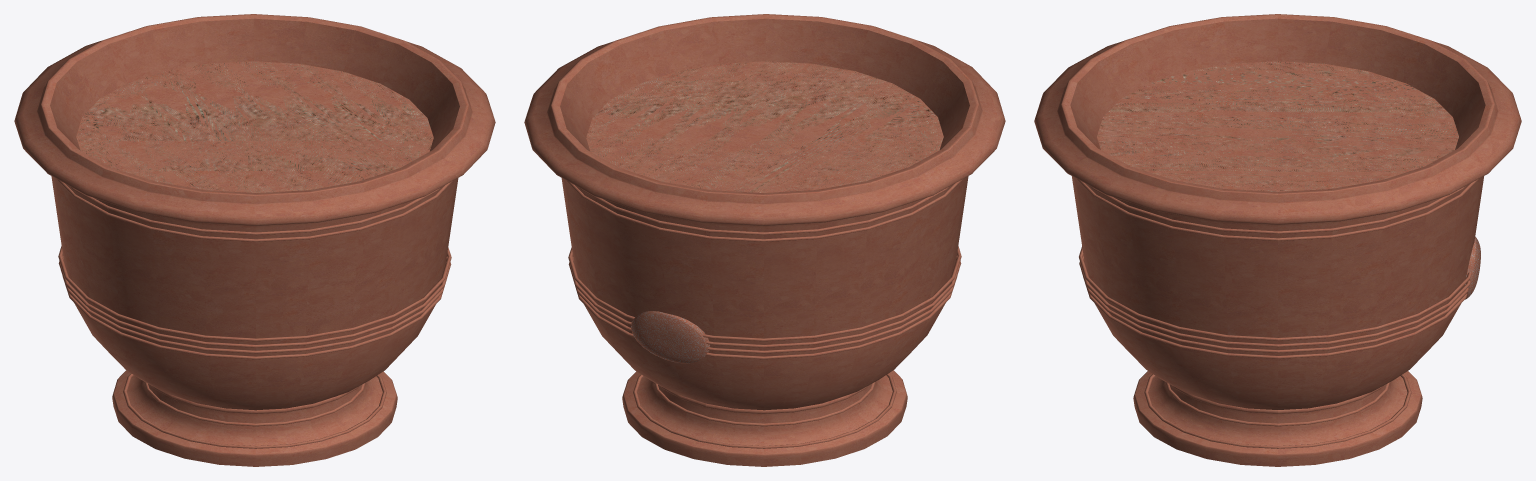
Rendered from Flower_pot.fbx.
The picture shows the model from 3 angles, left to right: view 1: azimuth 30°, elevation 25°; view 2: azimuth 150°, elevation 25°; view 3: azimuth 270°, elevation 25°; orthographic projection.
Visible parts, largest first — view 1: Group1, circles3, circles, circles2; view 2: Group1, circles2, Side1, circles1, circles3; view 3: Group1, circles, circles1, Side1.
Part boxes in pixels (x1=…): Group1: x1=14, y1=14, x2=495, y2=466; circles3: x1=73, y1=188, x2=361, y2=448; circles: x1=310, y1=181, x2=452, y2=441; circles2: x1=57, y1=179, x2=159, y2=419; Group1: x1=524, y1=14, x2=1005, y2=466; circles2: x1=658, y1=188, x2=946, y2=448; Side1: x1=631, y1=311, x2=709, y2=363; circles1: x1=567, y1=181, x2=709, y2=441; circles3: x1=860, y1=179, x2=962, y2=419; Group1: x1=1034, y1=14, x2=1521, y2=466; circles: x1=1076, y1=178, x2=1277, y2=448; circles1: x1=1278, y1=178, x2=1479, y2=448; Side1: x1=1465, y1=237, x2=1480, y2=299.
Bounding box in the file's own units: 42.76 × 29.92 × 43.32.
